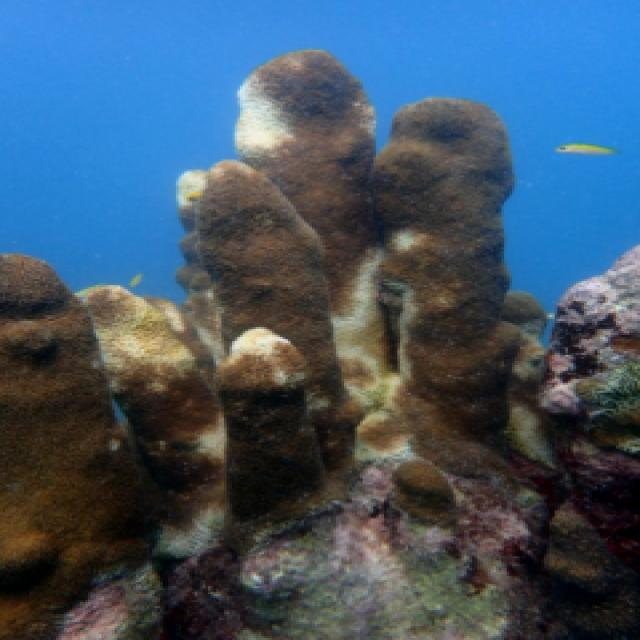Coral: (72, 47, 569, 640), (0, 251, 169, 640), (543, 499, 640, 640)
